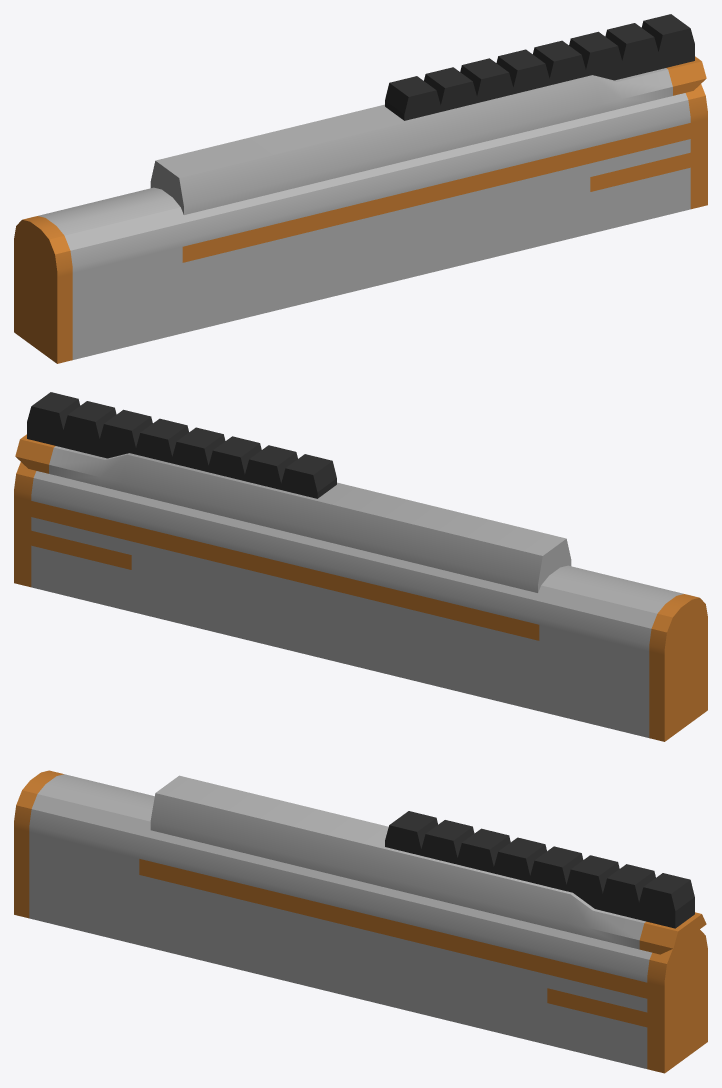
File: Body_Pistol_3.gltf
3 views of the same model, one above another, from view 1: azimuth 30°, elevation 25°; view 2: azimuth 150°, elevation 25°; view 3: azimuth 330°, elevation 25° (orthographic).
Parts seen in each view (by area): view 1: Body_Pistol_3; view 2: Body_Pistol_3; view 3: Body_Pistol_3.
Part boxes in pixels (box(x1,y1,x2,y2)): Body_Pistol_3: box(14, 14, 707, 363); Body_Pistol_3: box(14, 392, 707, 741); Body_Pistol_3: box(14, 770, 707, 1073).
Bounding box in the file's own units: 0.7919 × 0.1961 × 0.0905.
